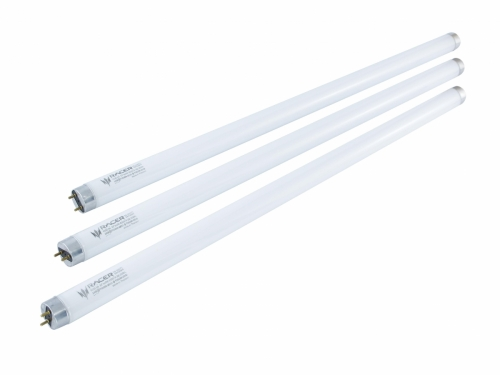Light_bulb: (33, 83, 468, 334), (51, 55, 467, 271), (66, 31, 464, 217)
